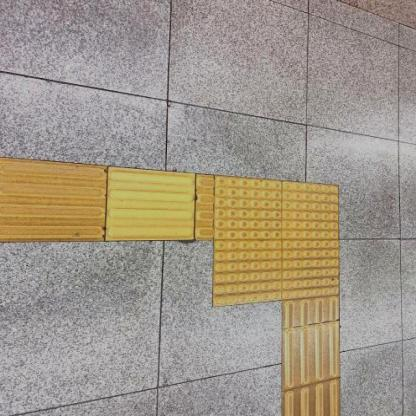podotacti: (158, 123, 368, 365), (0, 158, 215, 240), (284, 304, 340, 415)
